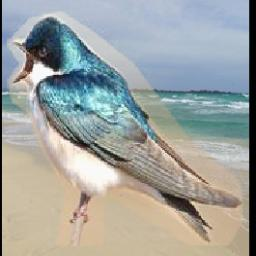Swallow: (7, 11, 242, 246)
